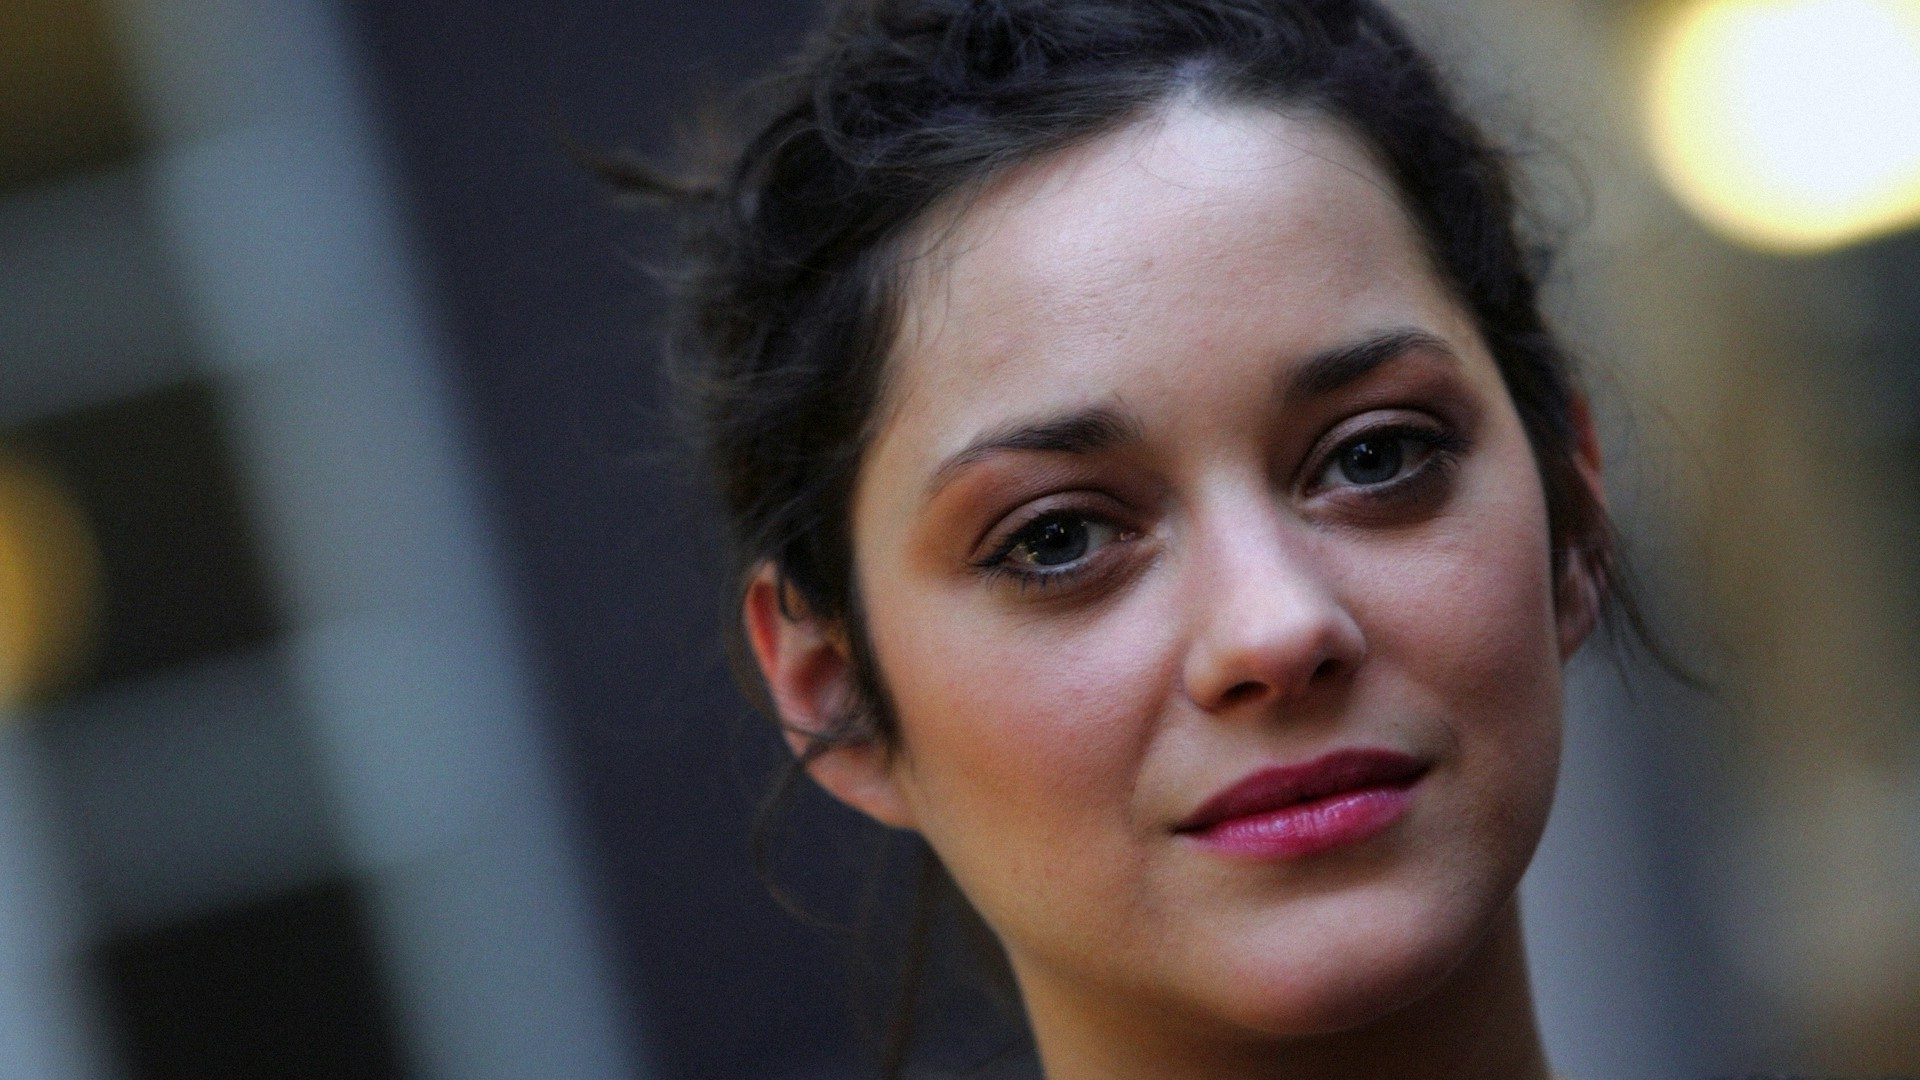face_no_mask: (690, 5, 1643, 1046)
